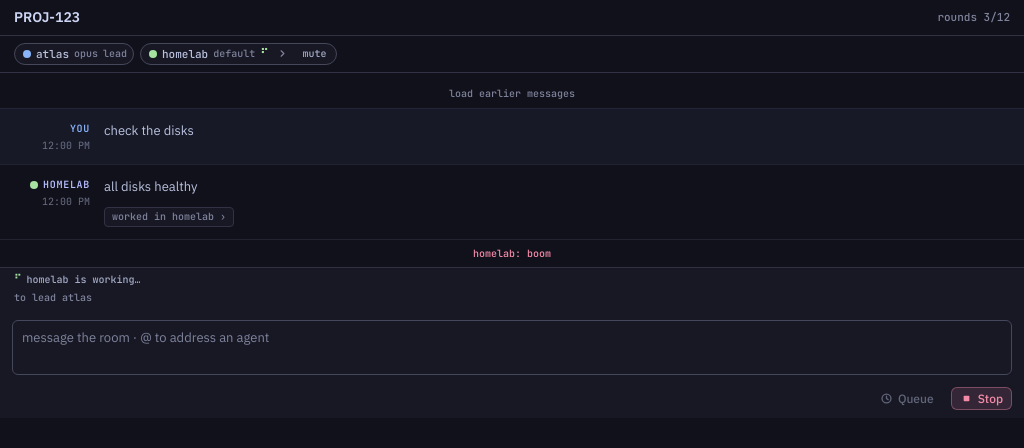
Test case: older events load on demand
The image size is (1024, 448).
Click the button "load earlier messages" at (512, 93), box top-left (439, 83), bottom-right (585, 104)
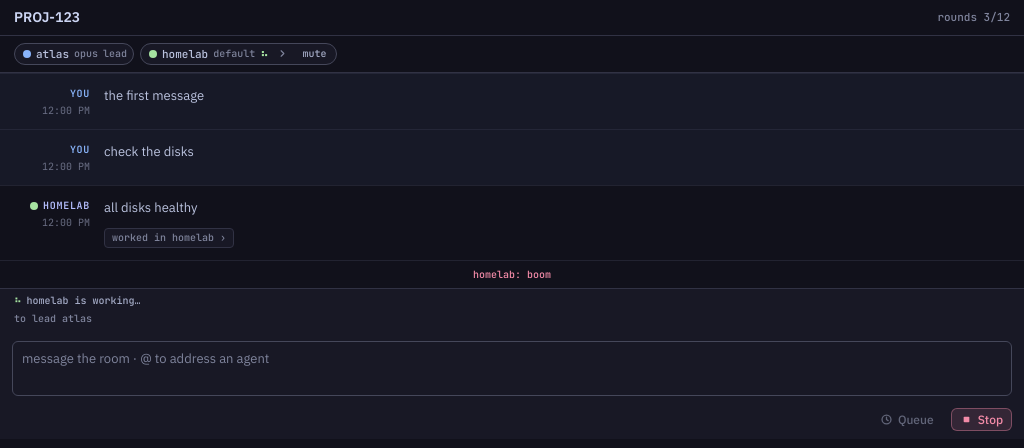
Expected: the text "the first message" is shown, top-left (104, 87), bottom-right (204, 104)
